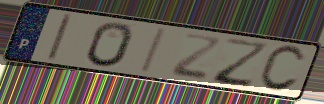C: (255, 44, 307, 94)
I: (44, 12, 75, 63), (138, 27, 170, 75)
O: (84, 21, 135, 69)
Z: (211, 36, 271, 90), (168, 31, 224, 83)
